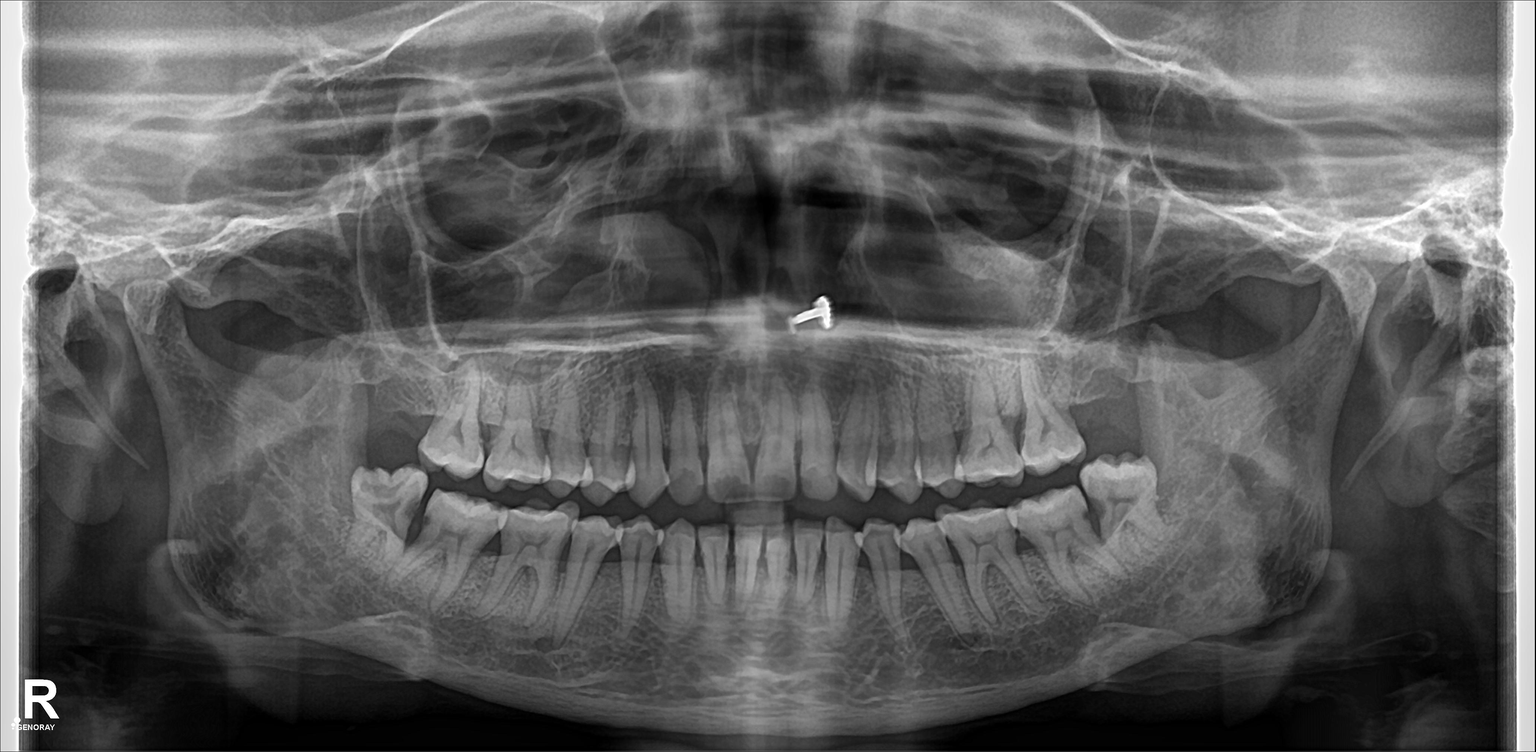Dental Caries: (359, 477, 413, 506), (399, 504, 429, 538)
Impacted Third Molar: (335, 469, 429, 576), (1084, 463, 1178, 559)
Missing Tooth: (1080, 357, 1143, 454), (367, 352, 426, 447)
